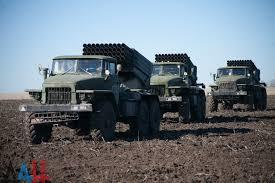MIL_SAM_TEL: (26, 40, 160, 139), (149, 48, 205, 123), (207, 55, 268, 112)
